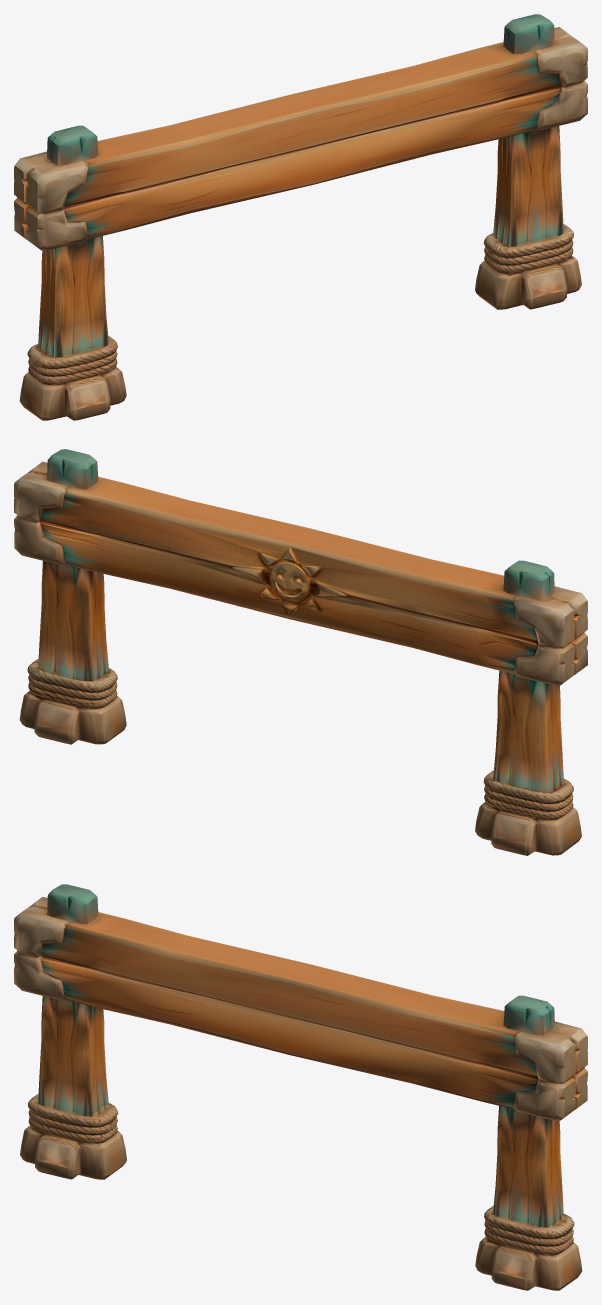
The model's file is start_gantry.glb.
3 renders of one model, top to bottom at view 1: azimuth 30°, elevation 25°; view 2: azimuth 150°, elevation 25°; view 3: azimuth 330°, elevation 25°, orthographic.
Parts seen in each view (by area): view 1: material; view 2: material; view 3: material.
Boxes of the visible parts, left/top/right/bottom form: material: left=14, top=14, right=587, bottom=420; material: left=14, top=449, right=587, bottom=855; material: left=14, top=884, right=587, bottom=1290.
Size of the model in its own units: 90.97 by 42.84 by 11.
1 material, 1 textured.
